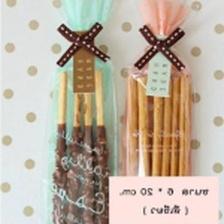snack: (38, 0, 122, 224), (117, 0, 199, 224)
